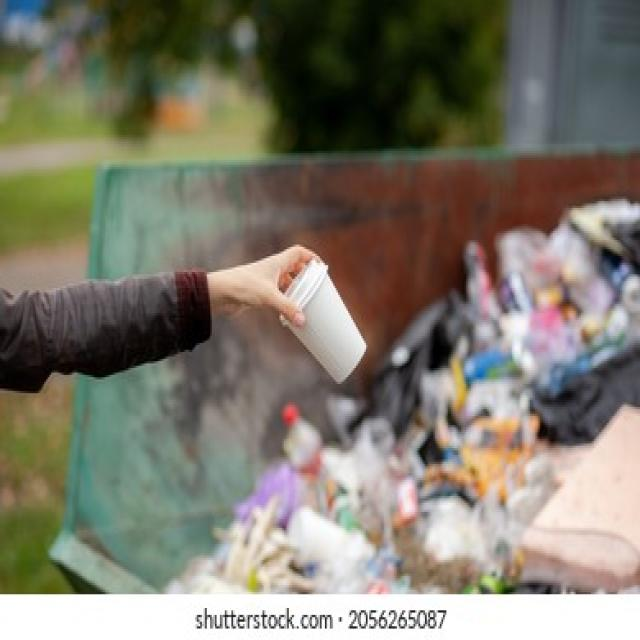plastic: (248, 494, 358, 580), (297, 263, 356, 375), (279, 400, 322, 466)
trash: (366, 252, 601, 572)
